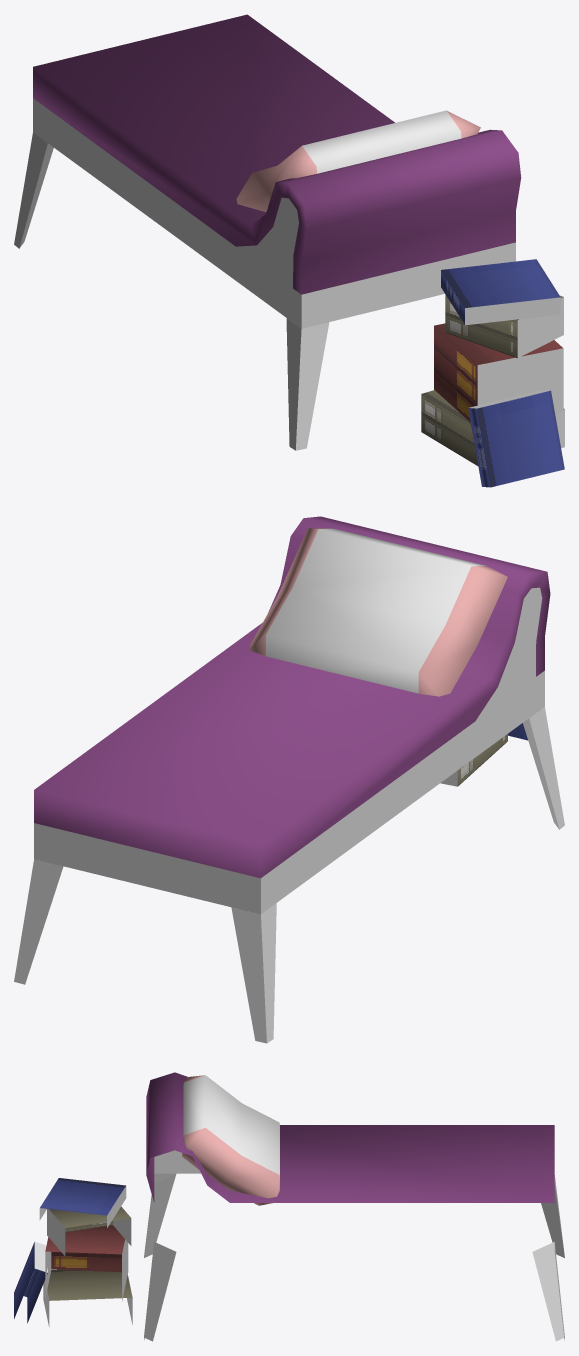
Rendered from interior_C_007.fbx.
3 views of the same model, one above another, from view 1: azimuth 30°, elevation 25°; view 2: azimuth 150°, elevation 25°; view 3: azimuth 270°, elevation 25° (orthographic). The views are drawn at different scales.
Parts seen in each view (by area): view 1: interior_C_007; view 2: interior_C_007; view 3: interior_C_007.
Boxes of the visible parts, x1,y1,x2,y2 form: interior_C_007: (14, 14, 564, 487); interior_C_007: (14, 516, 564, 1043); interior_C_007: (14, 1072, 564, 1341).
Bounding box in the file's own units: 67.84 × 72.43 × 181.
Materials: 6 (3 with a texture image).
